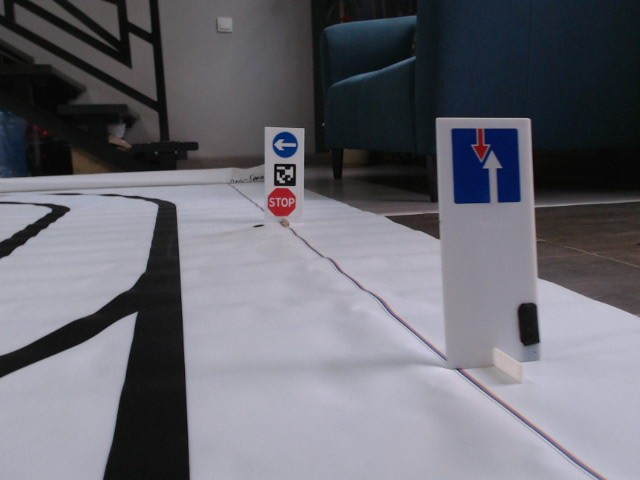Stop: (266, 186, 296, 218)
priority_movement: (448, 127, 523, 205)
